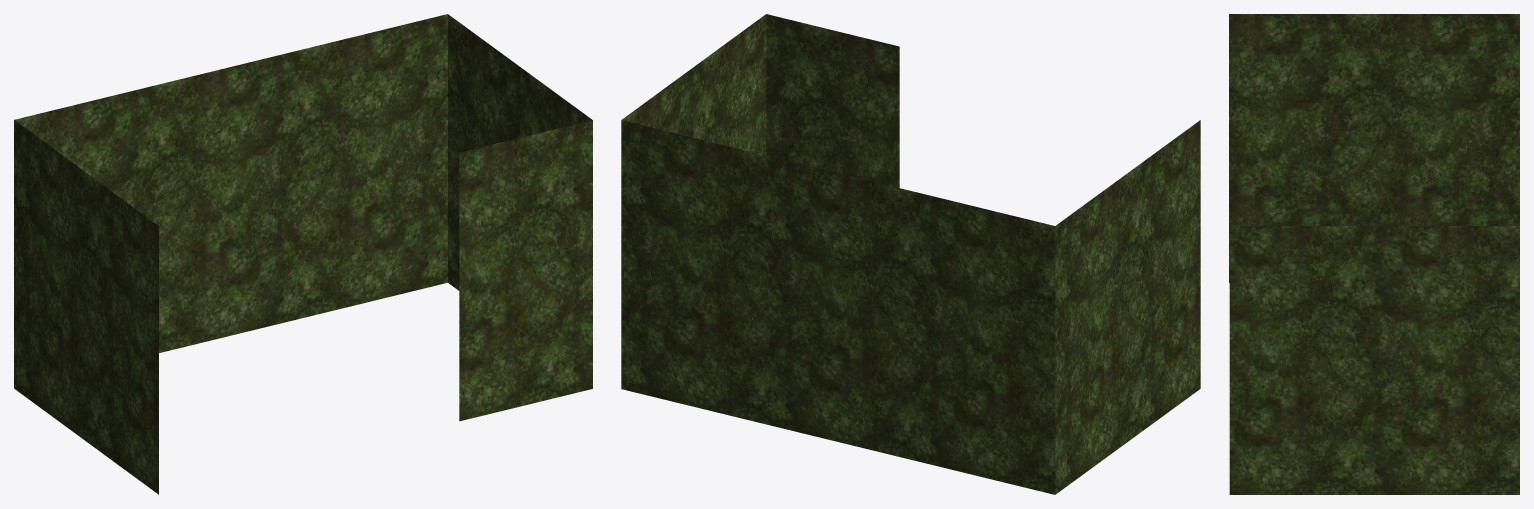
The model's file is OVERHILL_A_01_LINE229.fbx.
3 renders of one model, left to right at view 1: azimuth 30°, elevation 25°; view 2: azimuth 150°, elevation 25°; view 3: azimuth 270°, elevation 25°, orthographic.
Visible parts, largest first — view 1: OVERHILL_A_01_LINE229; view 2: OVERHILL_A_01_LINE229; view 3: OVERHILL_A_01_LINE229.
Boxes of the visible parts, bbox=[...] form: OVERHILL_A_01_LINE229: bbox=[14, 14, 592, 494]; OVERHILL_A_01_LINE229: bbox=[621, 14, 1200, 494]; OVERHILL_A_01_LINE229: bbox=[1229, 14, 1519, 494].
Size of the model in its own units: 80001 by 47334 by 46374.
1 material, 1 textured.
